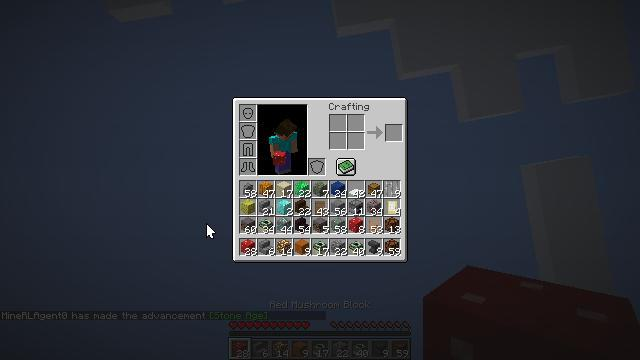cursor: (206, 223, 216, 239)
